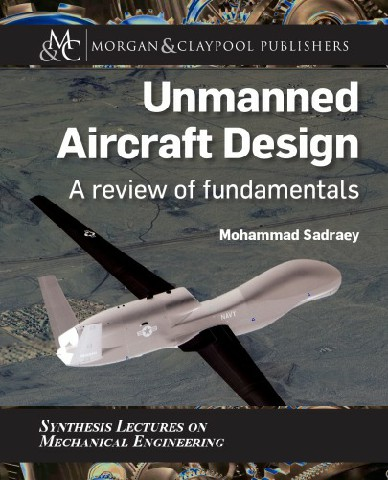maybay_khongnguoilai: (27, 195, 355, 409)
